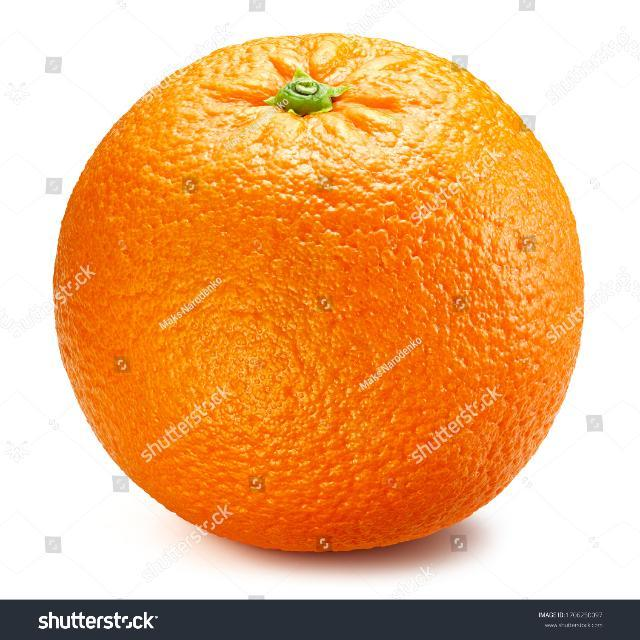Orange: (51, 31, 586, 554)
